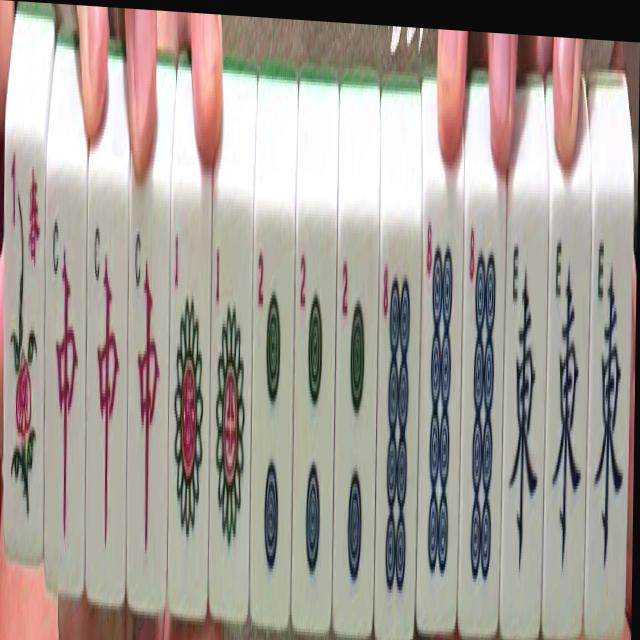east: (542, 198, 592, 636), (585, 177, 633, 631), (501, 199, 550, 640)
ff1: (3, 129, 45, 560)
t1: (208, 208, 252, 621), (168, 196, 212, 602)
t2: (290, 208, 337, 633), (248, 210, 295, 619), (333, 225, 379, 628)
t8: (416, 189, 465, 640), (458, 210, 506, 630), (374, 223, 421, 640)
zhong: (85, 181, 128, 604), (127, 193, 170, 604), (43, 169, 86, 564)
